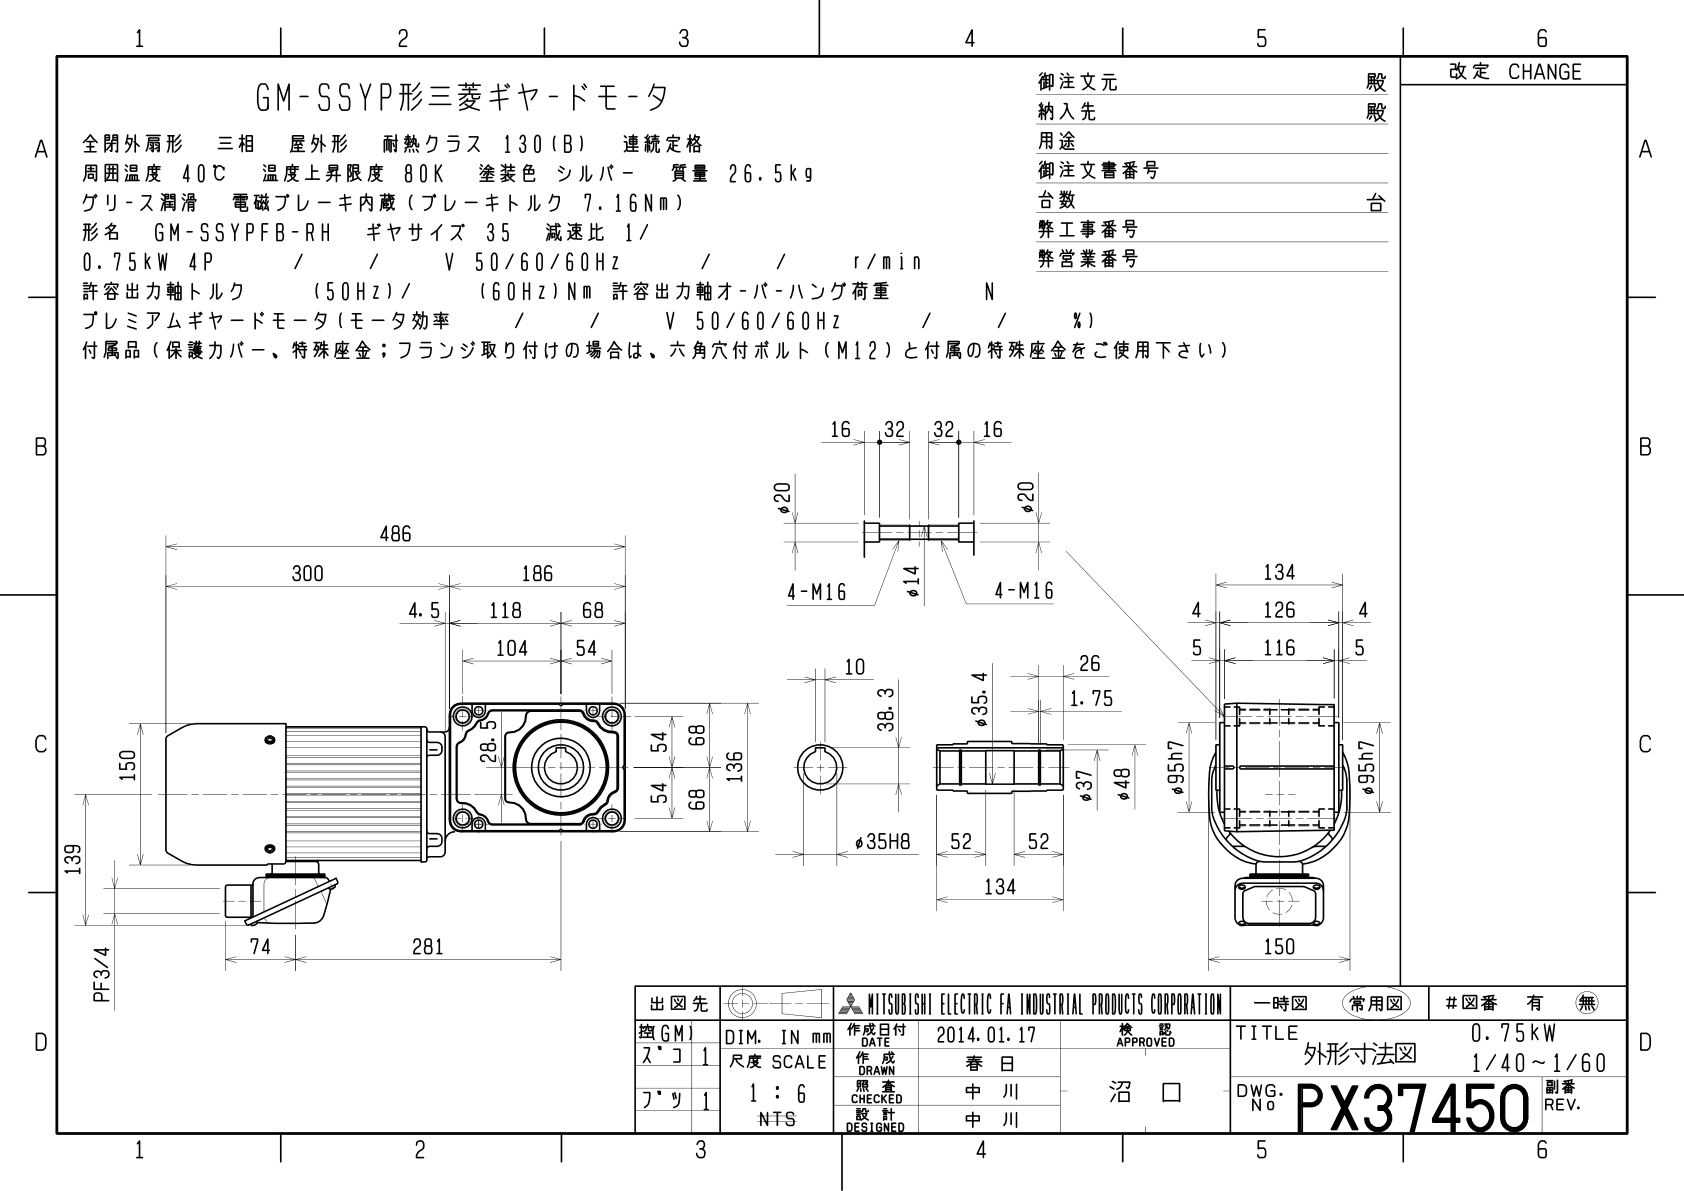GM_SSYP_屋外_三相: (6, 13, 1684, 1191)
